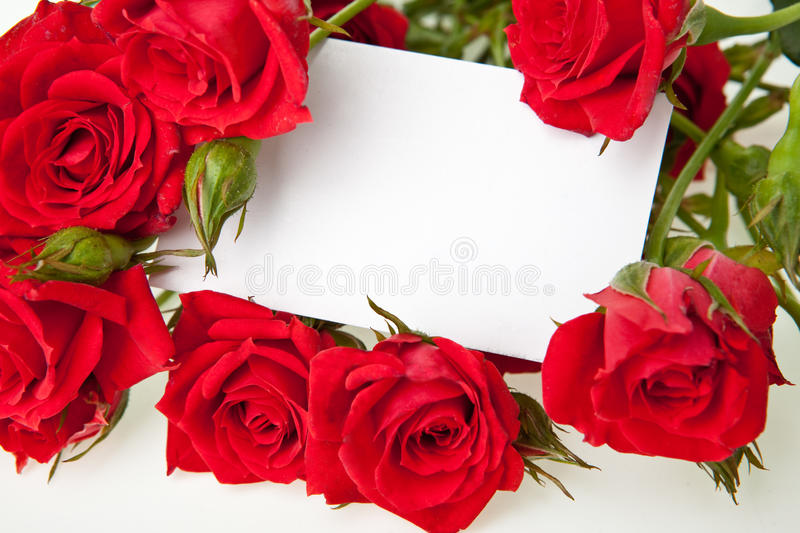RedRose: (576, 274, 778, 451), (5, 235, 167, 455), (175, 288, 335, 501), (3, 78, 206, 243), (97, 0, 326, 129), (364, 327, 511, 524), (513, 0, 710, 129)
